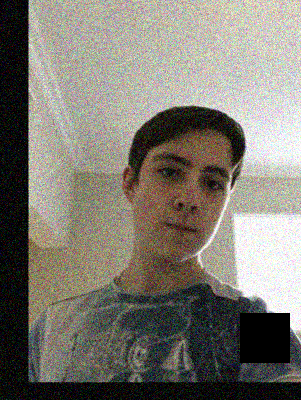without_mask: (132, 153, 233, 264)
